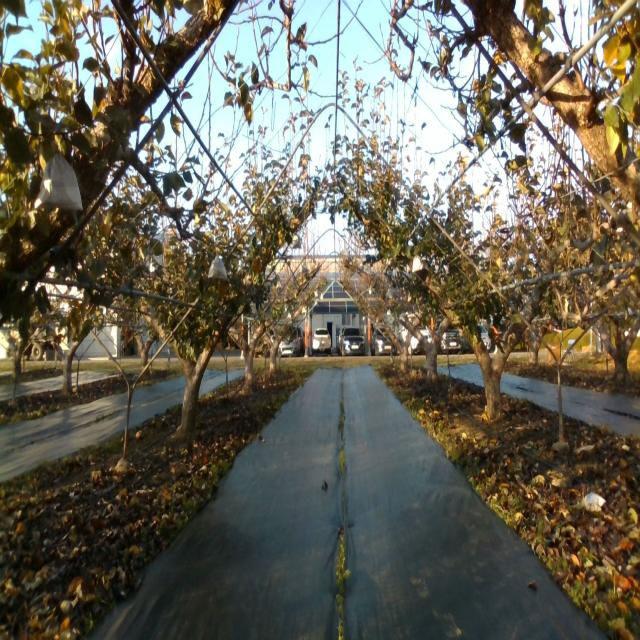pearbags: (34, 153, 84, 209), (208, 254, 228, 280), (412, 255, 423, 273)
